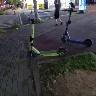beam: (60, 8, 95, 48)
gcooter: (24, 17, 69, 57)
